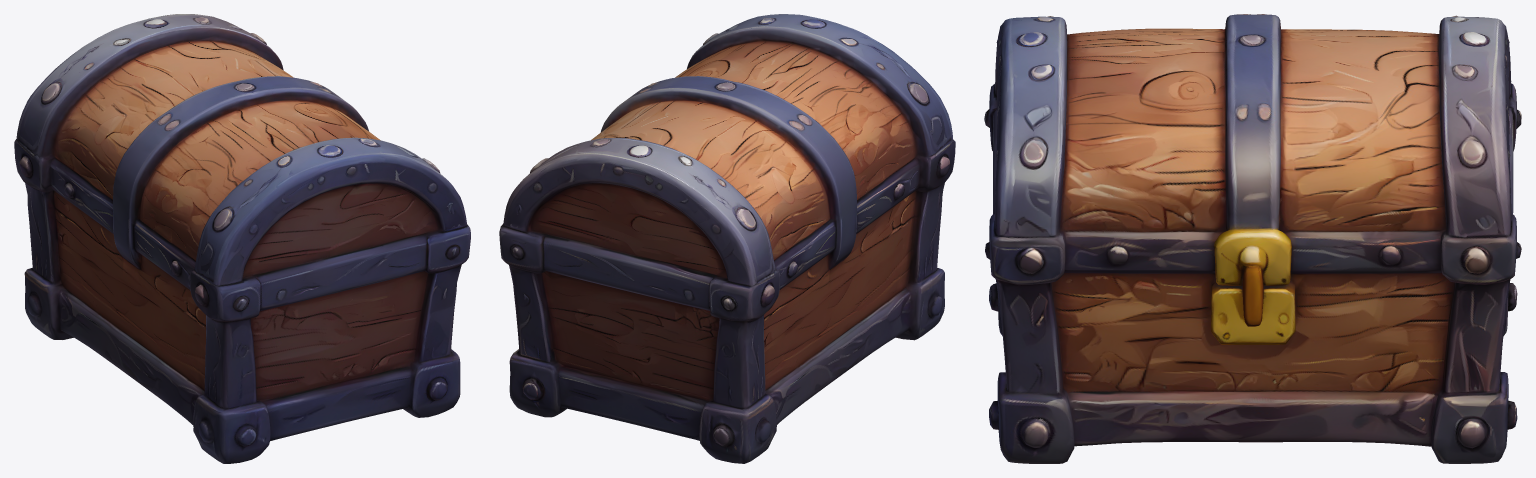
File: chest.glb
3 renders of one model, left to right at view 1: azimuth 30°, elevation 25°; view 2: azimuth 150°, elevation 25°; view 3: azimuth 270°, elevation 25°, orthographic. The views are drawn at different scales.
Visible parts, largest first — view 1: tripo_node_545e0151-d407-4fec-8314-517eb1dbf09b; view 2: tripo_node_545e0151-d407-4fec-8314-517eb1dbf09b; view 3: tripo_node_545e0151-d407-4fec-8314-517eb1dbf09b.
Boxes of the visible parts, x1,y1,x2,y2 form: tripo_node_545e0151-d407-4fec-8314-517eb1dbf09b: (14,14,470,463); tripo_node_545e0151-d407-4fec-8314-517eb1dbf09b: (499,14,955,463); tripo_node_545e0151-d407-4fec-8314-517eb1dbf09b: (984,14,1521,463).
Bounding box in the file's own units: 0.7472 × 0.7423 × 1.
Materials: 1 (1 with a texture image).
